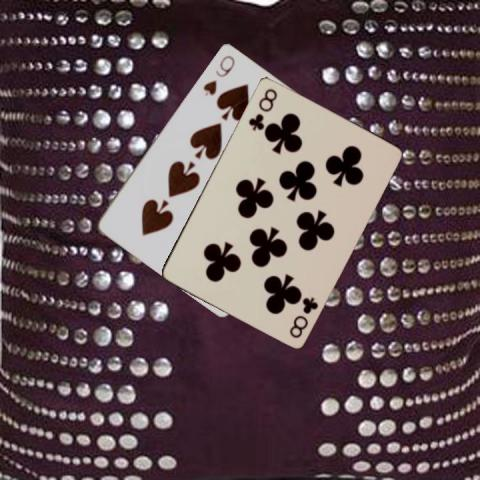8c: (245, 85, 279, 132), (286, 294, 319, 340)
9s: (200, 52, 237, 98)
